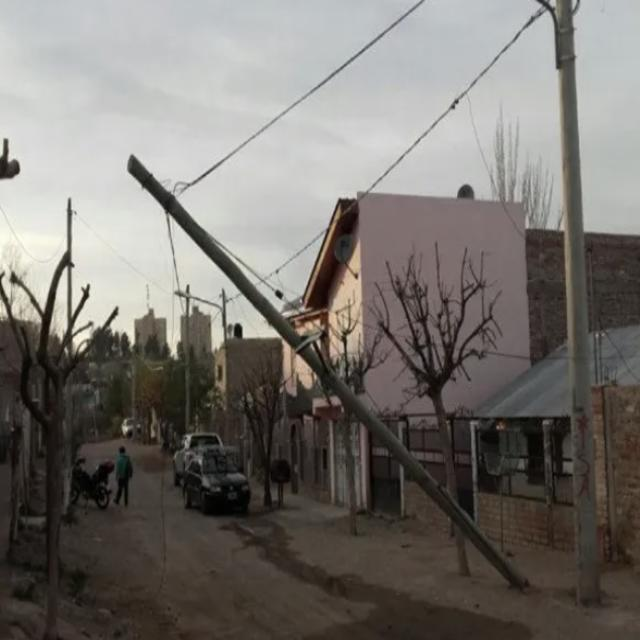Inclined Pole: (118, 147, 536, 589)
